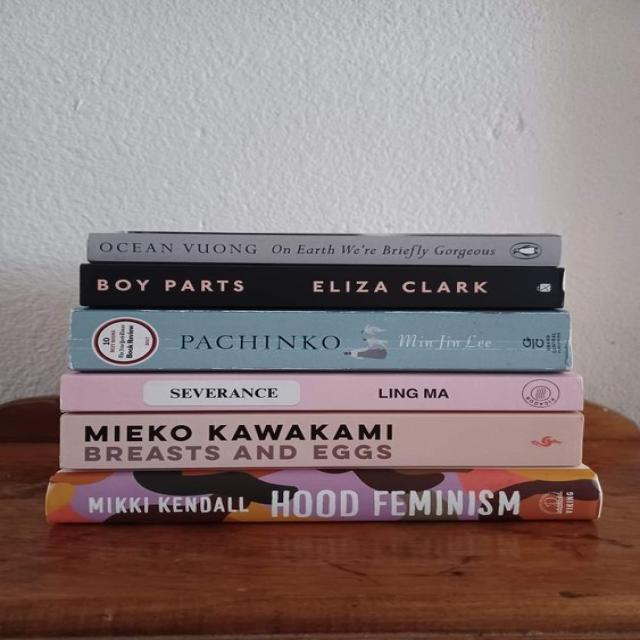book: (47, 466, 602, 524), (69, 308, 571, 371), (59, 412, 583, 469), (80, 263, 563, 310), (60, 373, 583, 412), (86, 232, 560, 266)
